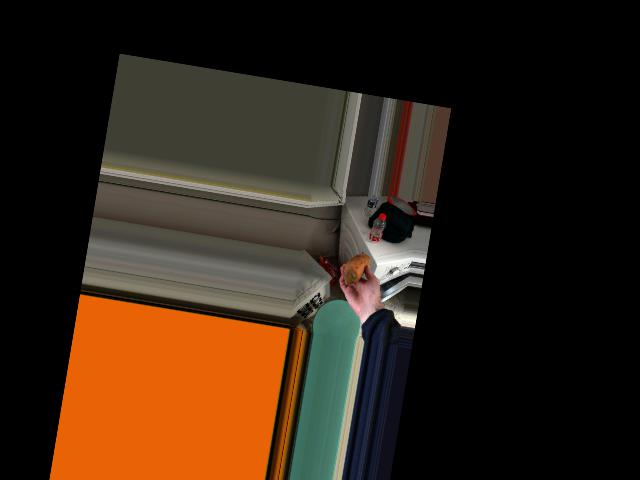sweet_potato: (343, 251, 369, 283)
